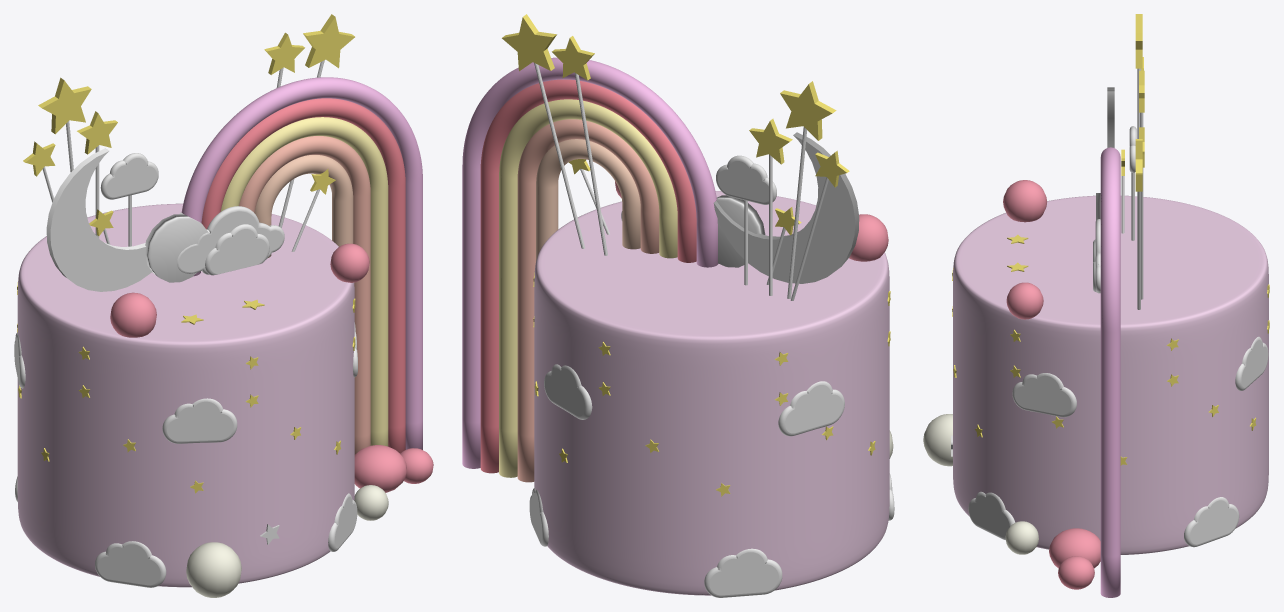
File: Rainbow_2.glb
3 renders of one model, left to right at view 1: azimuth 30°, elevation 25°; view 2: azimuth 150°, elevation 25°; view 3: azimuth 270°, elevation 25°, orthographic. The views are drawn at different scales.
Visible parts, largest first — view 1: Circle.002, Cylinder.015, Cylinder.013, Cylinder.002, Cylinder.003, Cylinder.008, Cloud.001, Cylinder.001, Cloud.002, Cylinder, Cloud2, Sphere.004 (+12 smaller); view 2: Circle.002, Cylinder.015, Cylinder.013, Cylinder.002, Cylinder.003, Cylinder.008, Cylinder.001, Cloud.002, Cloud.001, Cloud.003, Star.010, Star.013 (+8 smaller); view 3: Circle.002, Cylinder.015, Cloud.001, Cloud.002, Sphere.002, Sphere, Sphere.004, Sphere.003, Sphere.001, Sphere.005, Cylinder.008, Cylinder.007.
Part boxes in pixels (box(x1,y1,x2,y2)): Circle.002: box(17, 203, 354, 587); Cylinder.015: box(181, 77, 422, 449); Cylinder.013: box(201, 98, 405, 453); Cylinder.002: box(220, 117, 388, 446); Cylinder.003: box(239, 136, 370, 454); Cylinder.008: box(46, 148, 183, 291); Cloud.001: box(15, 476, 357, 587); Cylinder.001: box(254, 155, 353, 257); Cloud.002: box(14, 322, 357, 443); Cylinder: box(145, 214, 208, 282); Cloud2: box(177, 206, 284, 274); Sphere.004: box(186, 542, 241, 597); Circle.002: box(534, 191, 889, 595); Cylinder.015: box(462, 57, 718, 468); Cylinder.013: box(480, 79, 696, 473); Cylinder.002: box(499, 99, 677, 477); Cylinder.003: box(517, 119, 659, 482); Cylinder.008: box(713, 132, 859, 283); Cylinder.001: box(536, 139, 640, 260); Cloud.002: box(544, 364, 844, 436); Cloud.001: box(529, 473, 894, 597); Cloud.003: box(716, 155, 776, 204); Star.010: box(780, 81, 836, 140); Star.013: box(502, 14, 556, 71); Circle.002: box(953, 195, 1268, 554); Cylinder.015: box(1100, 147, 1120, 597); Cloud.001: box(968, 491, 1239, 547); Cloud.002: box(1012, 336, 1268, 417); Sphere.002: box(1003, 180, 1046, 222); Sphere: box(1049, 528, 1100, 568); Sphere.004: box(923, 414, 952, 466); Sphere.003: box(1006, 282, 1043, 319); Sphere.001: box(1058, 556, 1094, 589); Sphere.005: box(1005, 521, 1038, 554); Cylinder.008: box(1107, 87, 1114, 147); Cylinder.007: box(1137, 191, 1140, 309).
Bounding box in the file's own units: 0.1953 × 0.2227 × 0.1633.
